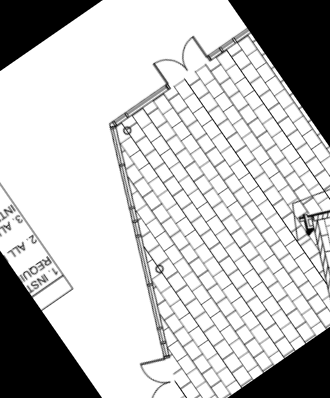double door: (148, 32, 213, 91), (123, 346, 196, 398)
wall: (286, 228, 330, 322), (303, 177, 330, 243)
